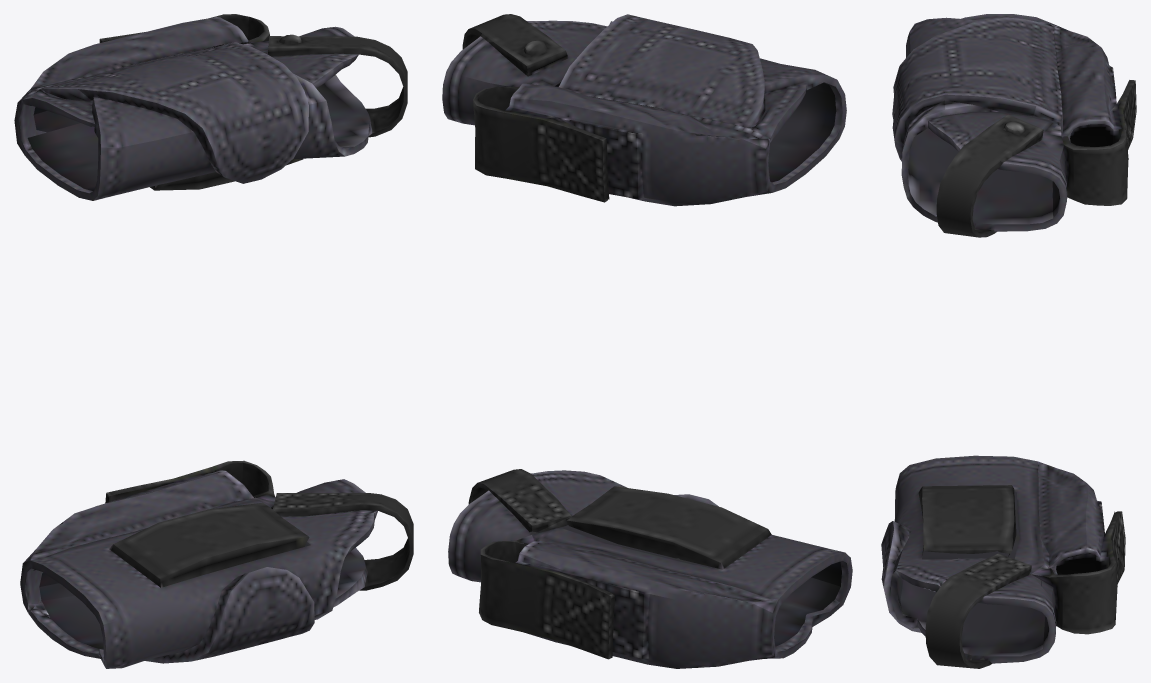
File: DELTA_DUAL.fbx
3 renders of one model, left to right at view 1: azimuth 30°, elevation 25°; view 2: azimuth 150°, elevation 25°; view 3: azimuth 270°, elevation 25°, orthographic. The views are drawn at different scales.
Visible parts, largest first — view 1: Operator_Delta_MolleHolster.001; view 2: Operator_Delta_MolleHolster.001; view 3: Operator_Delta_MolleHolster.001.
Boxes of the visible parts, x1=… form: Operator_Delta_MolleHolster.001: x1=14, y1=14, x2=413, y2=668; Operator_Delta_MolleHolster.001: x1=442, y1=14, x2=852, y2=668; Operator_Delta_MolleHolster.001: x1=881, y1=14, x2=1136, y2=668.
Bounding box in the file's own units: 0.1669 × 0.2613 × 0.1116.
